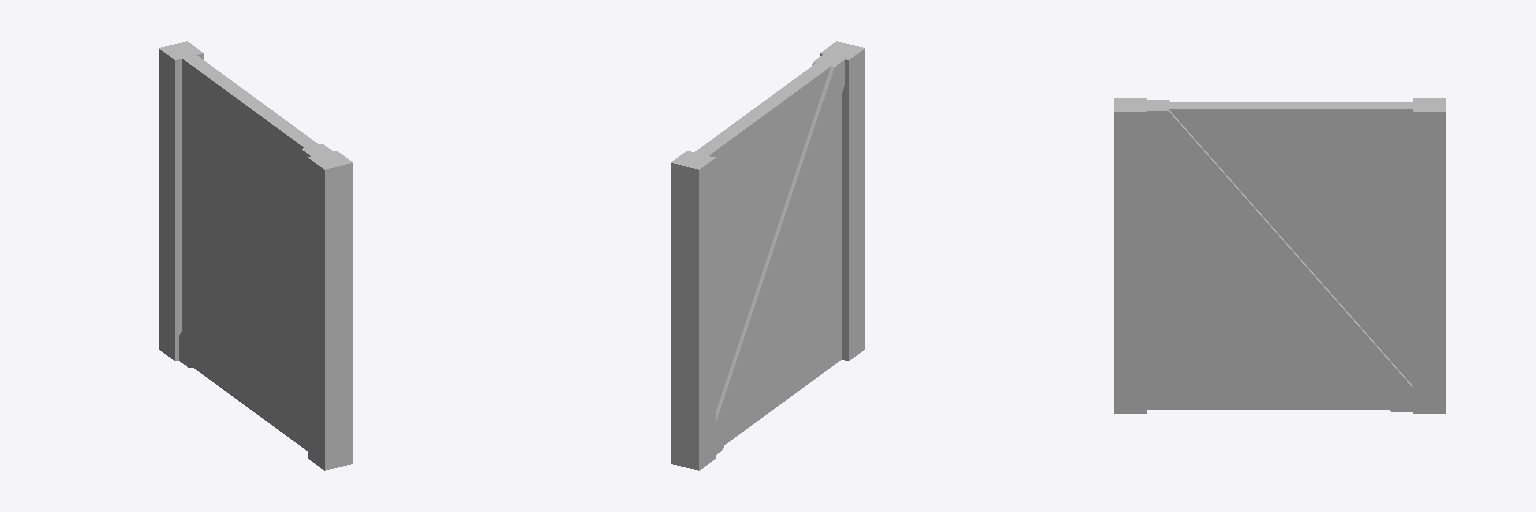
Rendered from wallDetailDiagonal.obj.
3 views of the same model, side by side, from view 1: azimuth 30°, elevation 25°; view 2: azimuth 150°, elevation 25°; view 3: azimuth 270°, elevation 25° (orthographic).
Parts seen in each view (by area): view 1: wallDetailDiagonal; view 2: wallDetailDiagonal; view 3: wallDetailDiagonal.
Part boxes in pixels (bbox=[...]): wallDetailDiagonal: bbox=[159, 41, 352, 470]; wallDetailDiagonal: bbox=[671, 41, 864, 470]; wallDetailDiagonal: bbox=[1114, 98, 1445, 413].
Size of the model in its own units: 0.1 by 1 by 1.